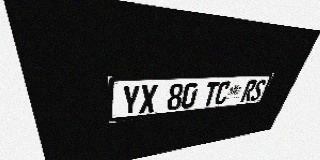0: (180, 82, 199, 109)
8: (166, 83, 185, 111)
C: (213, 81, 232, 105)
R: (240, 80, 258, 102)
S: (249, 79, 267, 101)
T: (202, 81, 220, 107)
X: (139, 84, 158, 114)
Y: (121, 85, 140, 116)
